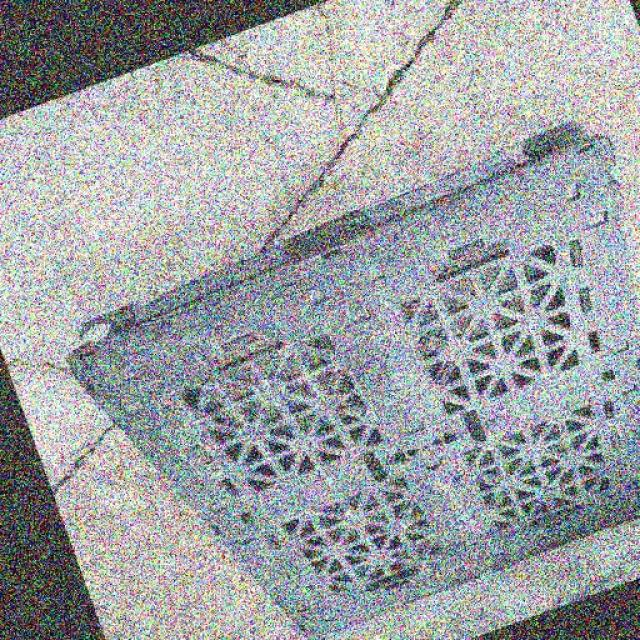igps: (50, 103, 640, 640)
